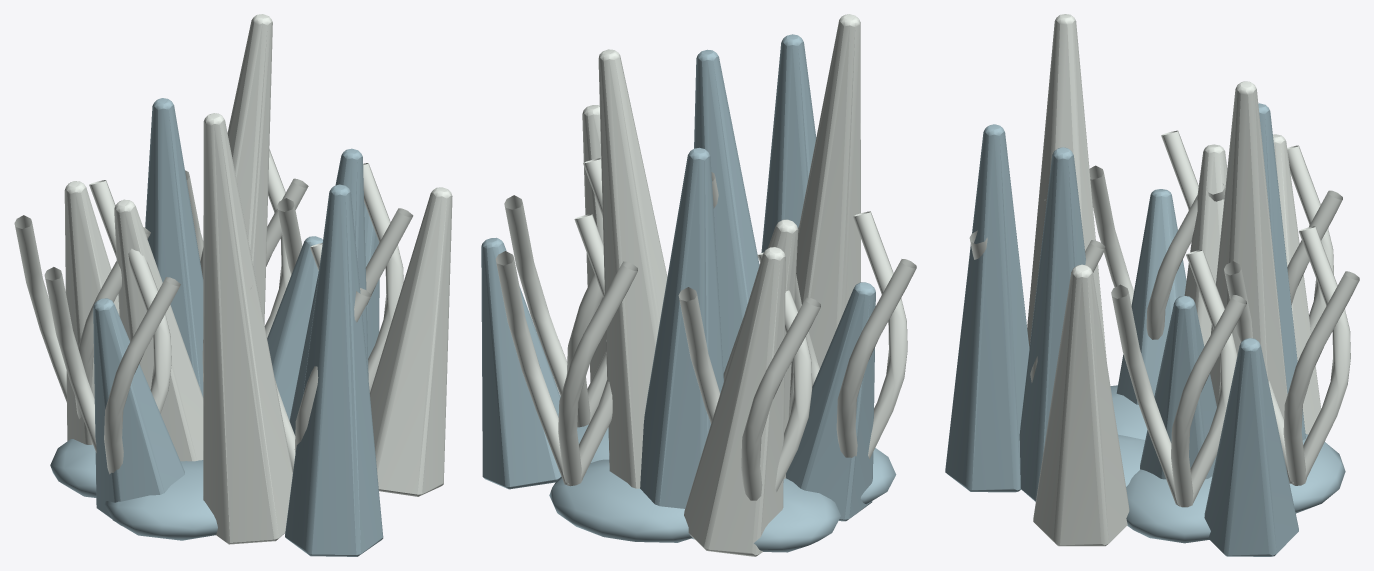
Rendered from bio_crystal_fan_14_far.glb.
3 views of the same model, side by side, from view 1: azimuth 30°, elevation 25°; view 2: azimuth 150°, elevation 25°; view 3: azimuth 270°, elevation 25° (orthographic). The views are drawn at different scales.
Parts seen in each view (by area): view 1: Reflecting mineral prism.007, Reflecting mineral prism.002, Reflecting mineral prism.005, Reflecting mineral prism.004, Reflecting mineral prism.006, Spiral filament.012, Reflecting mineral prism.003, Reflecting mineral prism.009, Mineral substrate, Reflecting mineral prism.001, Spiral filament, Spiral filament.003 (+5 smaller); view 2: Reflecting mineral prism.003, Reflecting mineral prism.006, Reflecting mineral prism.001, Reflecting mineral prism.007, Mineral substrate, Reflecting mineral prism.008, Spiral filament.009, Reflecting mineral prism.004, Reflecting mineral prism.010, Spiral filament.003, Spiral filament.012, Reflecting mineral prism.002 (+3 smaller); view 3: Reflecting mineral prism.002, Reflecting mineral prism.005, Reflecting mineral prism.008, Reflecting mineral prism.003, Spiral filament, Reflecting mineral prism.010, Spiral filament.009, Mineral substrate, Reflecting mineral prism.007, Spiral filament.012, Reflecting mineral prism, Reflecting mineral prism.004 (+5 smaller).
Boxes of the visible parts, x1,y1,x2,y2 form: Reflecting mineral prism.007: (203,113,292,544); Reflecting mineral prism.002: (285,184,383,556); Reflecting mineral prism.005: (370,187,452,496); Reflecting mineral prism.004: (93,298,184,525); Reflecting mineral prism.006: (145,98,203,397); Spiral filament.012: (44,248,180,474); Reflecting mineral prism.003: (200,14,272,381); Reflecting mineral prism.009: (114,199,203,461); Mineral substrate: (50,439,217,540); Reflecting mineral prism.001: (64,181,119,444); Spiral filament: (277,163,413,392); Spiral filament.003: (14,180,150,418); Reflecting mineral prism.003: (598,49,667,488); Reflecting mineral prism.006: (640,147,723,508); Reflecting mineral prism.001: (684,247,785,556); Reflecting mineral prism.007: (789,14,860,418); Mineral substrate: (549,424,896,552); Reflecting mineral prism.008: (481,237,561,489); Spiral filament.009: (495,214,637,486); Reflecting mineral prism.004: (786,282,875,521); Reflecting mineral prism.010: (694,49,759,372); Spiral filament.003: (678,252,820,500); Spiral filament.012: (794,211,916,458); Reflecting mineral prism.002: (761,34,816,252); Reflecting mineral prism.002: (945,124,1029,492); Reflecting mineral prism.005: (1033,264,1129,546); Reflecting mineral prism.008: (1204,338,1298,556); Reflecting mineral prism.003: (1210,81,1287,418); Spiral filament: (1111,249,1246,507); Reflecting mineral prism.010: (1019,147,1085,501); Spiral filament.009: (1224,226,1359,485); Mineral substrate: (1110,385,1345,543); Reflecting mineral prism.007: (1027,14,1106,359); Spiral filament.012: (1089,130,1198,339); Reflecting mineral prism: (1140,296,1216,479); Reflecting mineral prism.004: (1116,189,1186,404).
Size of the model in its own units: 1.66 by 1.85 by 1.6.
